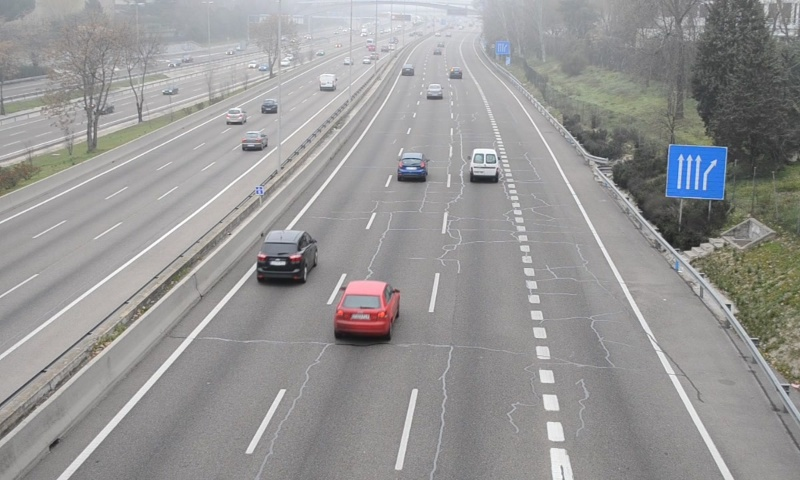car: (335, 282, 398, 338), (258, 230, 316, 282), (396, 152, 426, 182), (425, 82, 444, 99)
van: (470, 148, 500, 182)
